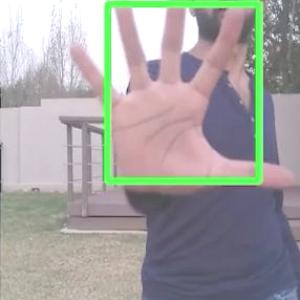follow_hand: (64, 0, 299, 200)
